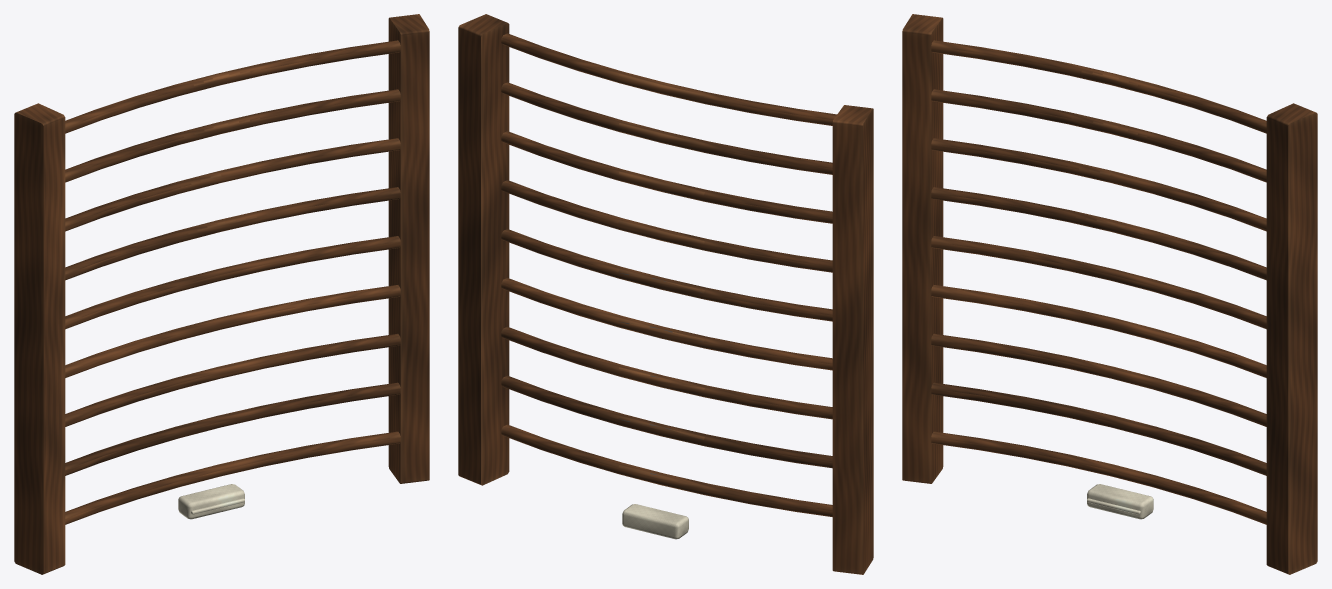
The model's file is Furn_WallBars_Arc.fbx.
The picture shows the model from 3 angles, left to right: view 1: azimuth 30°, elevation 25°; view 2: azimuth 150°, elevation 25°; view 3: azimuth 330°, elevation 25°; orthographic projection.
Parts seen in each view (by area): view 1: Furn_WallBars_Arc; view 2: Furn_WallBars_Arc; view 3: Furn_WallBars_Arc.
Boxes of the visible parts, x1,y1,x2,y2 form: Furn_WallBars_Arc: (14,14,429,574); Furn_WallBars_Arc: (458,14,873,574); Furn_WallBars_Arc: (902,14,1317,574).
Bounding box in the file's own units: 2.25 × 2.4 × 0.3014.
2 materials, 2 textured.
